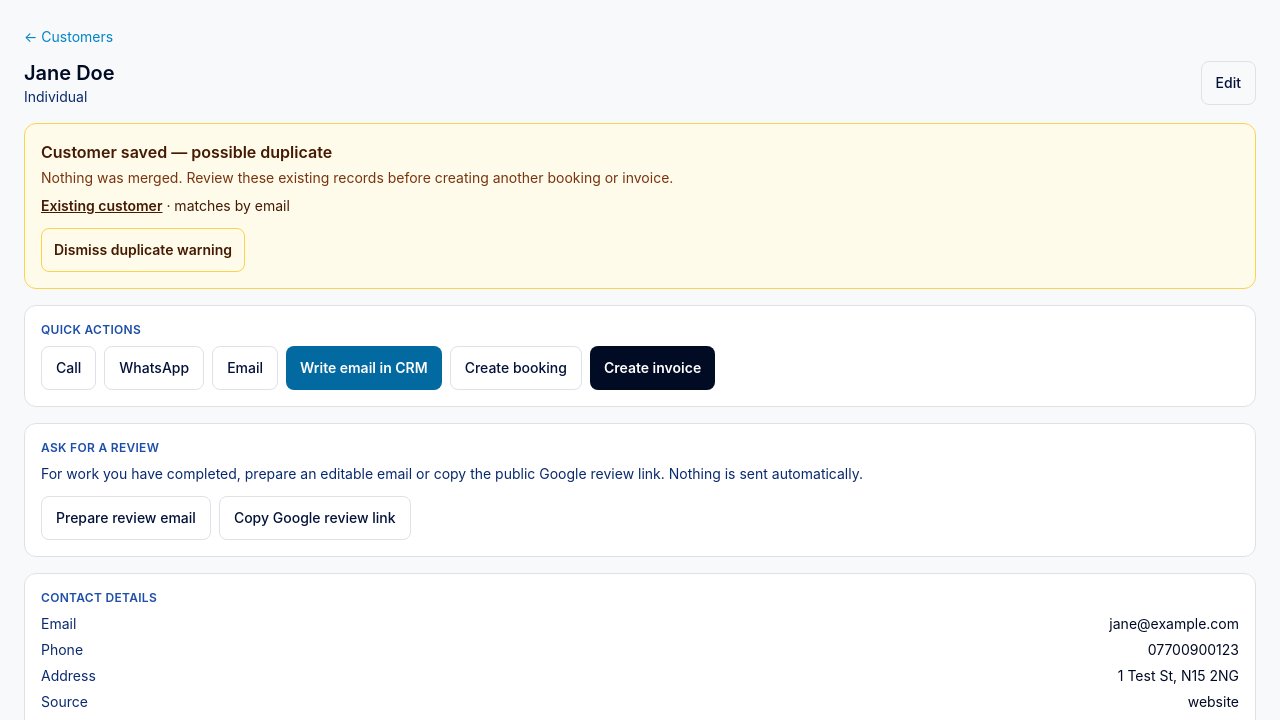
Test: CustomerDetailPage › keeps duplicate warnings visible on the saved customer and lets the owner dismiss them
Expected: the message shows "Customer saved — possible duplicate", [41,142,332,162]
Expected: the text "Nothing was merged" is shown, [41,169,673,186]
Click the button "Dismiss duplicate warning" at {"x": 143, "y": 250}, box [41,228,245,272]
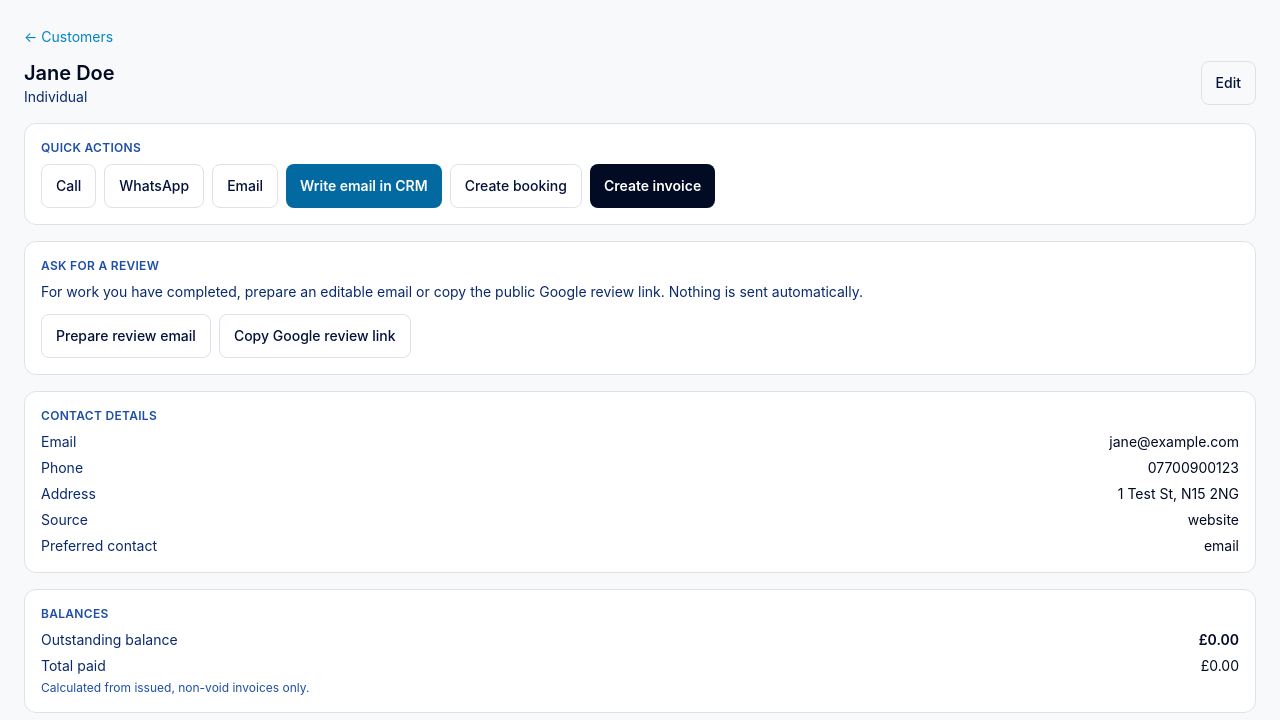
Expected: the message is gone
